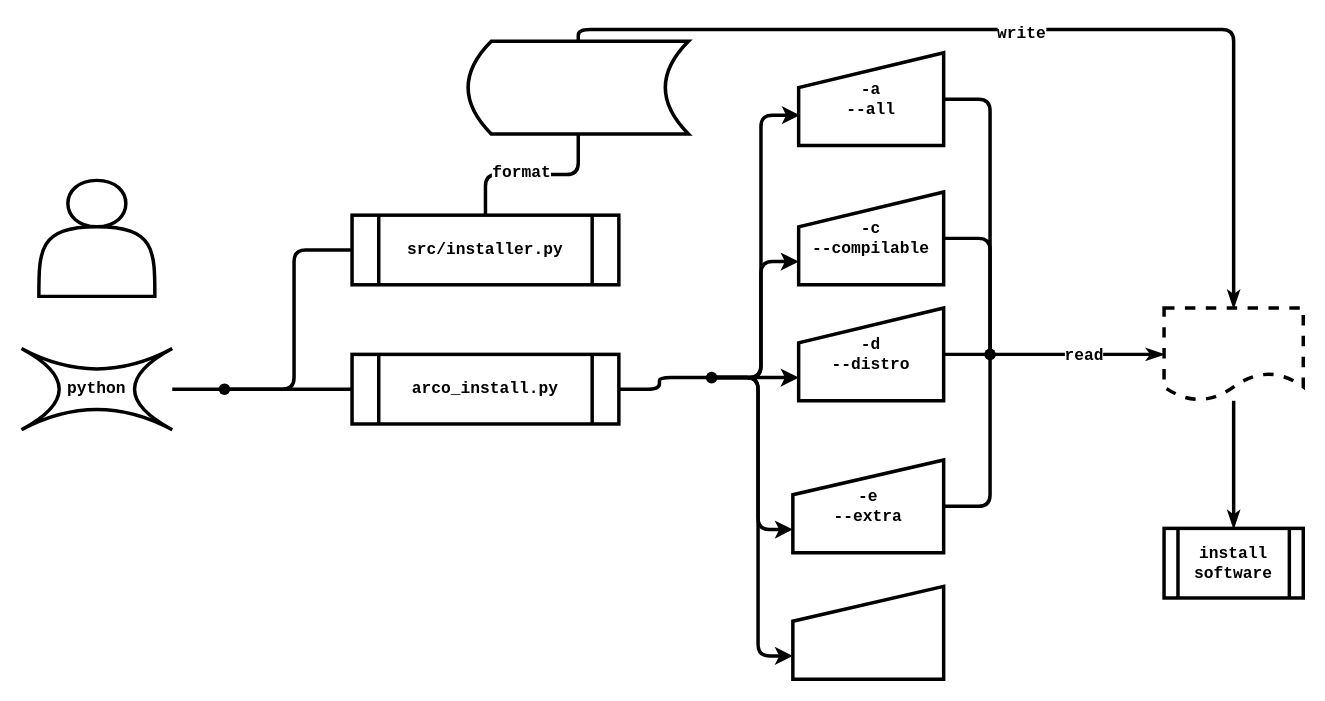
Some shapes in this 1325 by 701 pixel diagram are drawn without their labels. The box of each missing label's shape, as (x1, y1, x2, y2) in pixels:
-h --help: (791, 584, 945, 680)
software.csv: (466, 39, 690, 135)
software.yml: (1162, 306, 1304, 402)
terminal: (37, 178, 156, 298)
